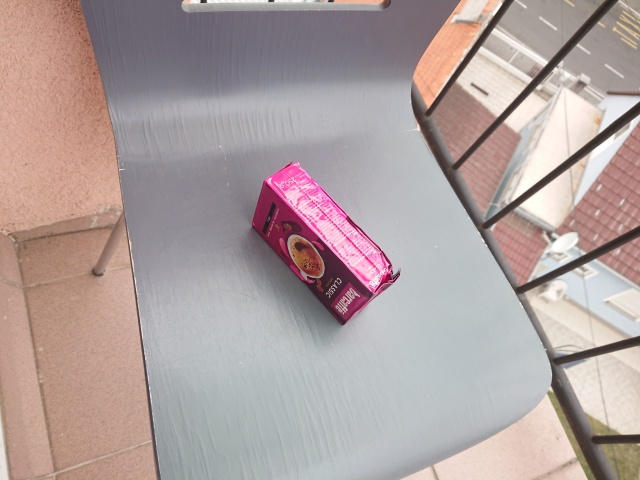Barcaffe Classic Original 225g: (249, 158, 403, 327)
